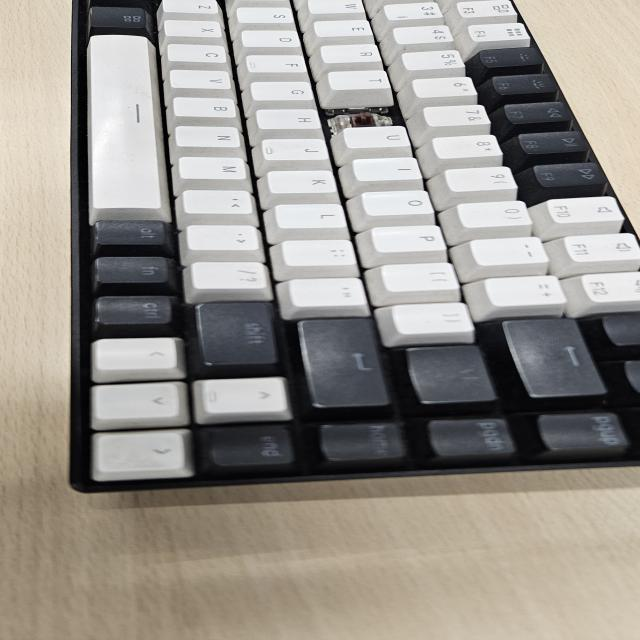C: (338, 110, 387, 126)
